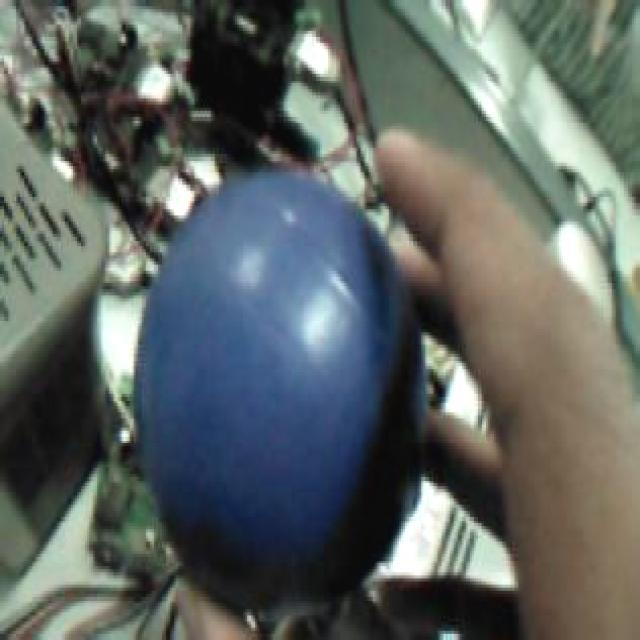BallPurple: (134, 166, 428, 601)
